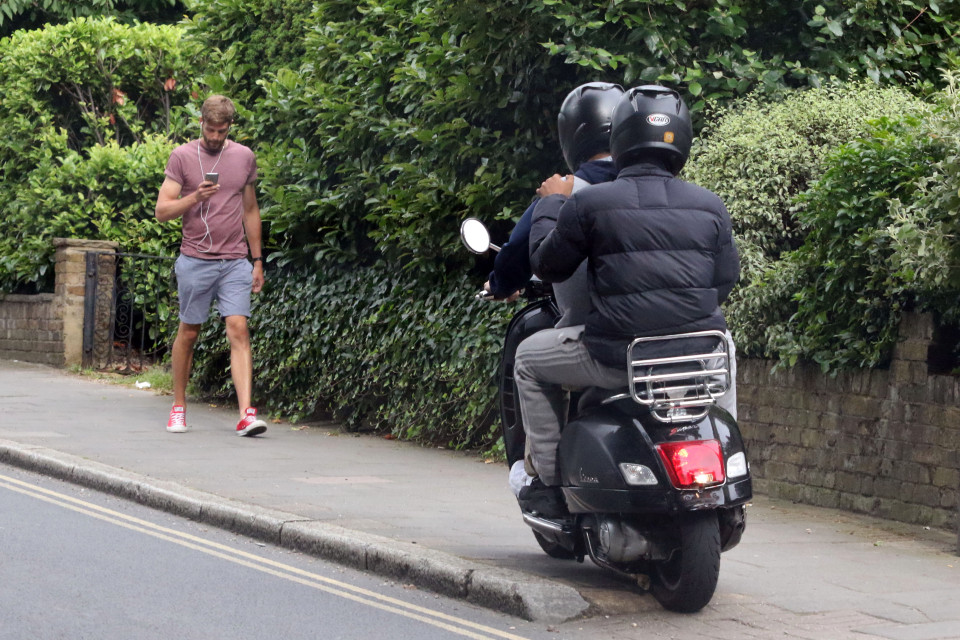with_helmet: (547, 82, 632, 167)
